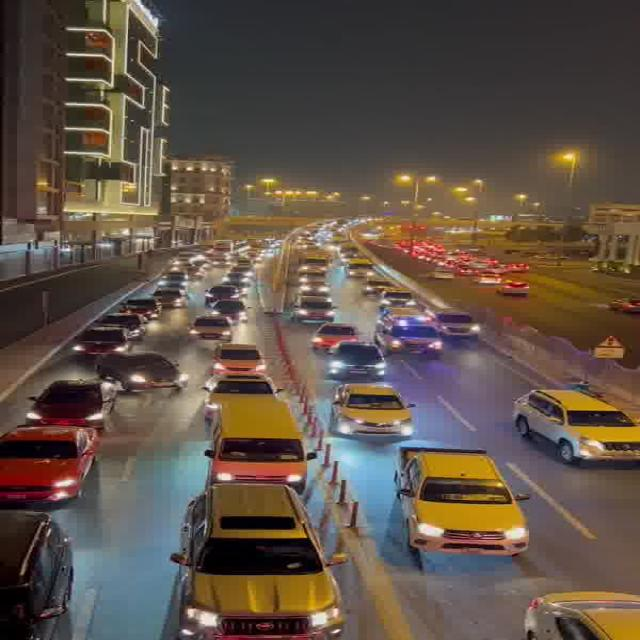ambulance: (378, 310, 444, 355)
